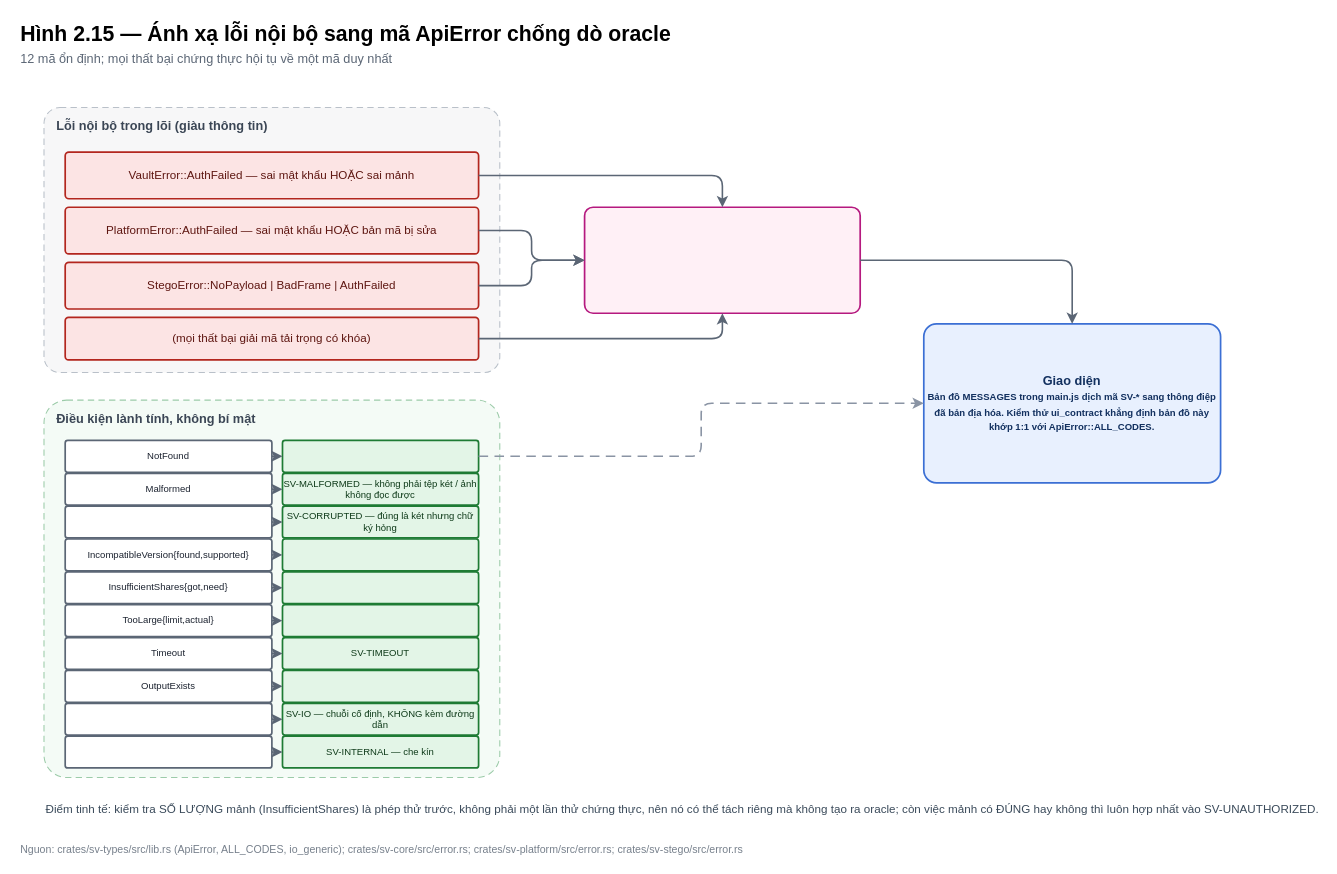
This 1337x874 diagram has some shape labels left out. The shapes that lost their labels are listed below. From the top down, each one's box as (x1, y1, x2, y2) in pixels, then its label:
(583, 206, 861, 314): SV-UNAUTHORIZED một mã duy nhất — kẻ tấn công không phân biệt được nguyên nhân
(281, 439, 479, 473): SV-NOT-FOUND
(64, 505, 272, 538): Corrupted
(281, 538, 479, 571): SV-INCOMPATIBLE-VERSION
(281, 570, 479, 604): SV-INSUFFICIENT-SHARES
(281, 603, 479, 637): SV-TOO-LARGE
(281, 669, 479, 703): SV-OUTPUT-EXISTS
(64, 702, 272, 735): Io(_)
(64, 735, 272, 768): Crypto(_) | Internal
